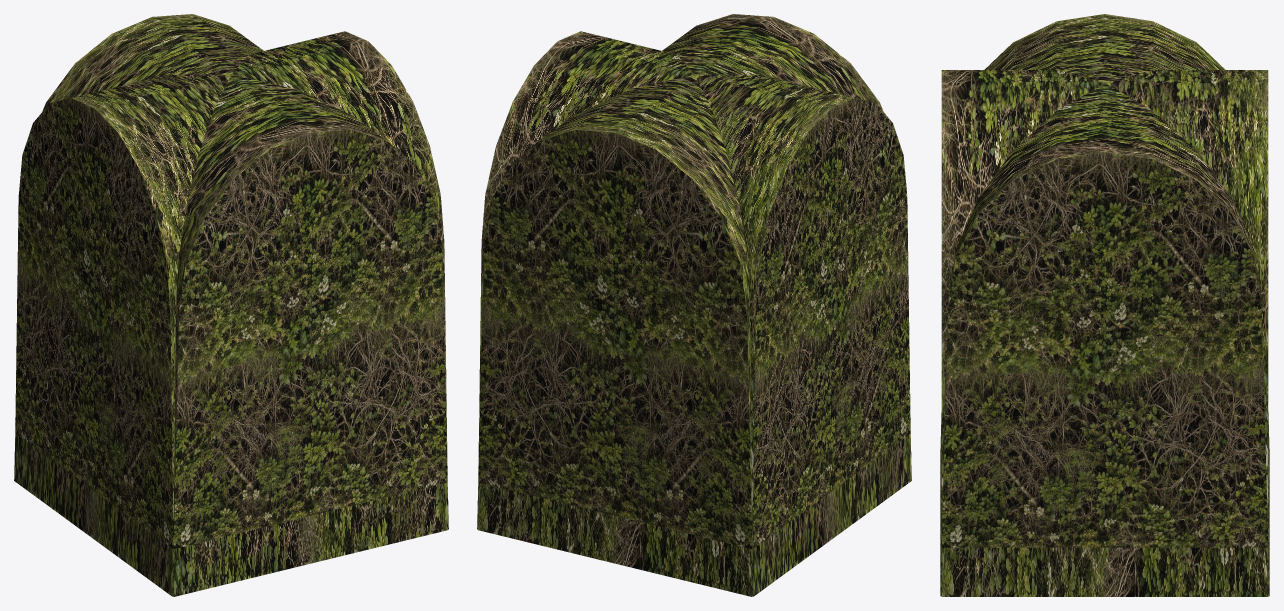
The model's file is hedge_isolated.glb.
The picture shows the model from 3 angles, left to right: view 1: azimuth 30°, elevation 25°; view 2: azimuth 150°, elevation 25°; view 3: azimuth 270°, elevation 25°; orthographic projection. The views are drawn at different scales.
Size of the model in its own units: 0.484 by 0.72 by 0.484.
Materials: 1 (1 with a texture image).
